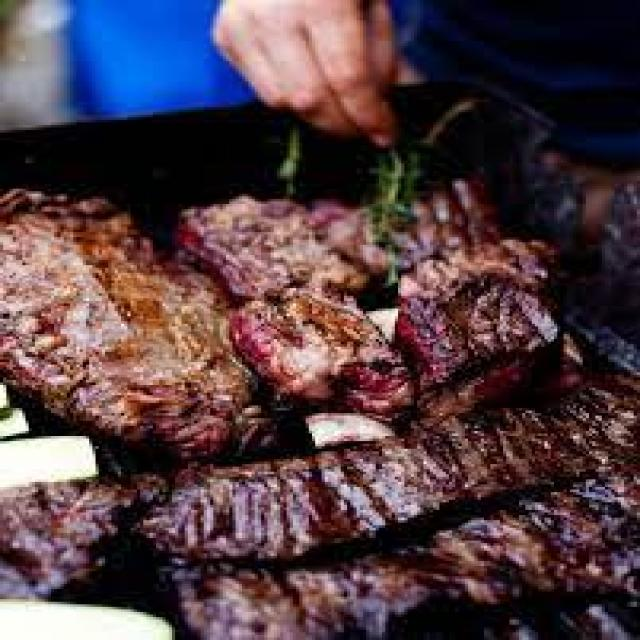Organik: (0, 178, 640, 640)
